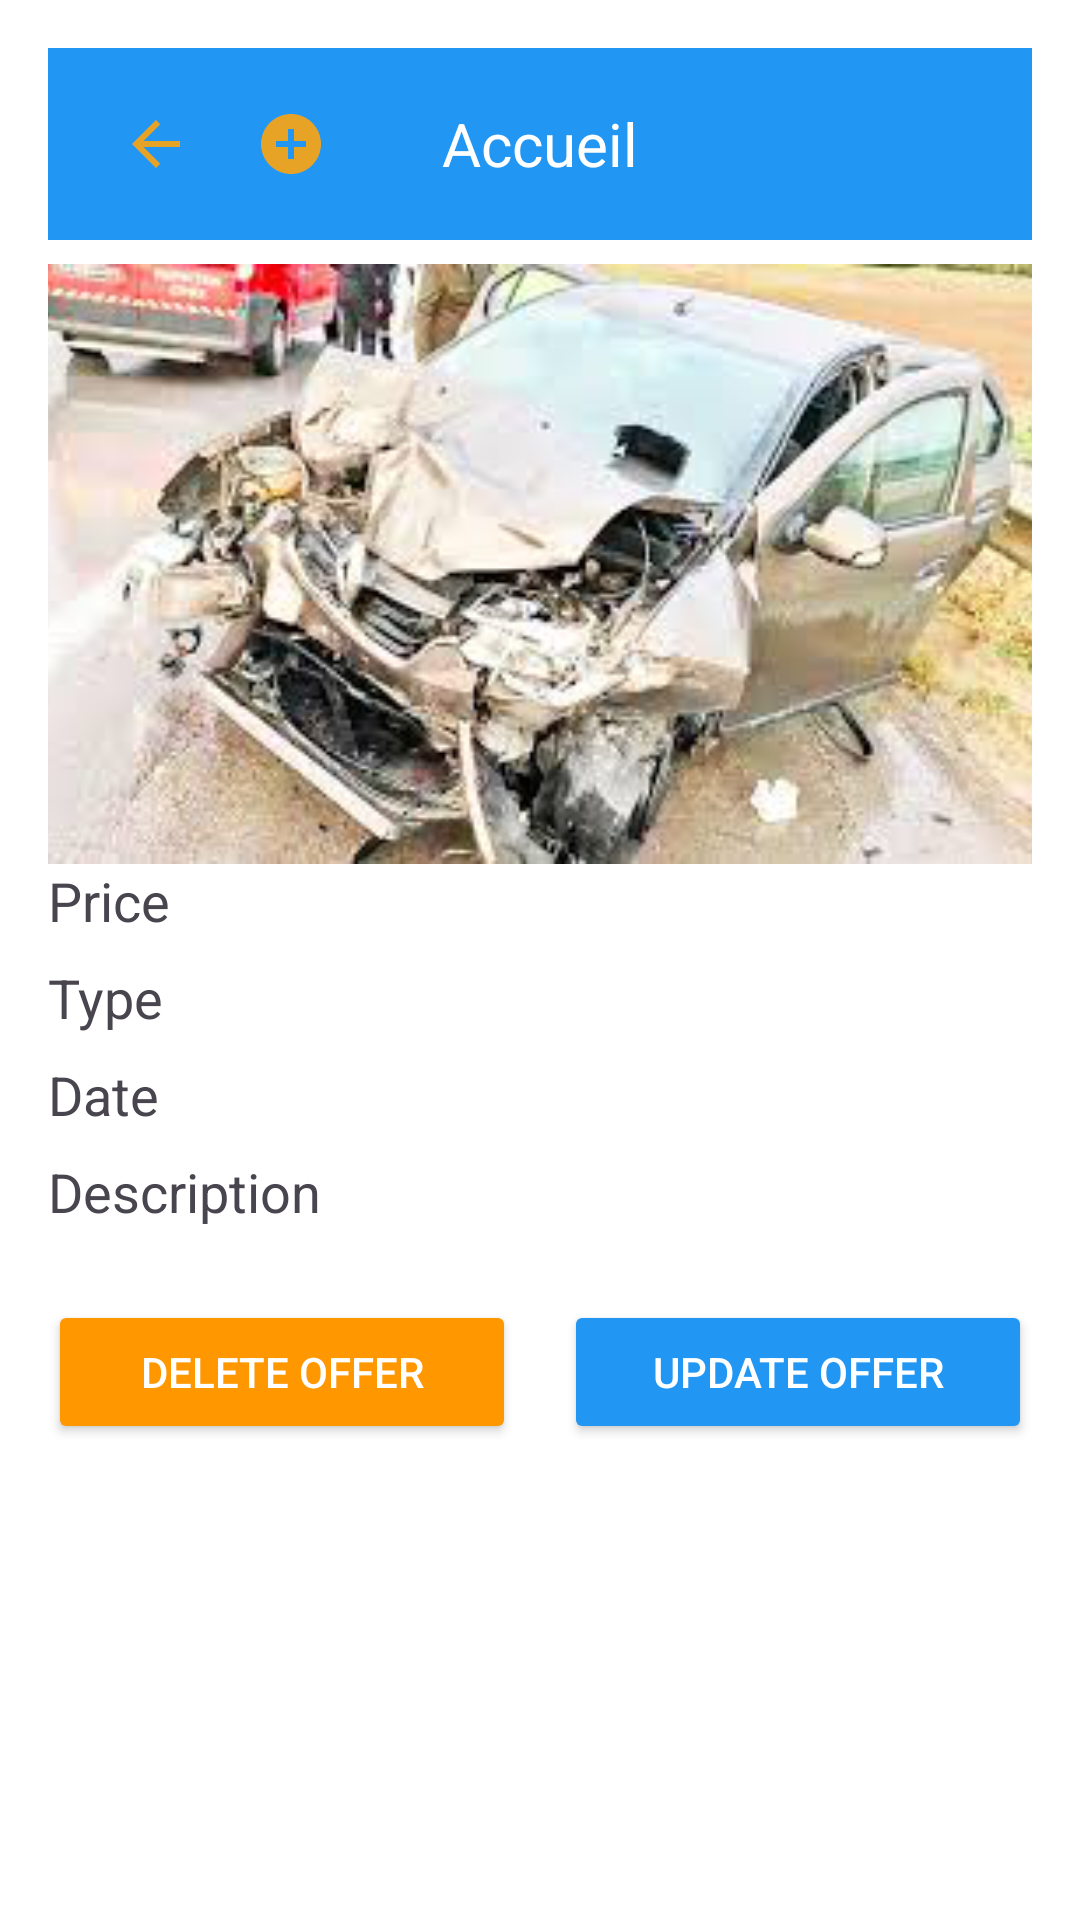

Icons on this 1080px x 1920px Android screen, each with the point to tap as [x,y]:
Ajouter: [291,144]
Retour: [156,144]
